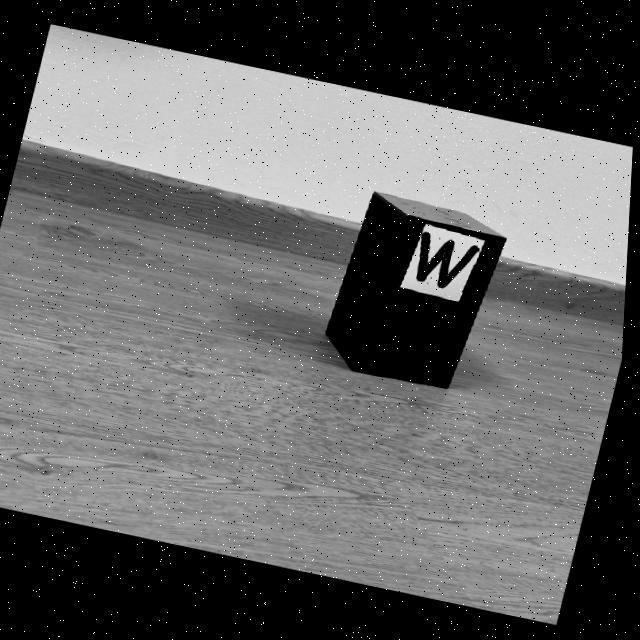W: (420, 231, 482, 287)
